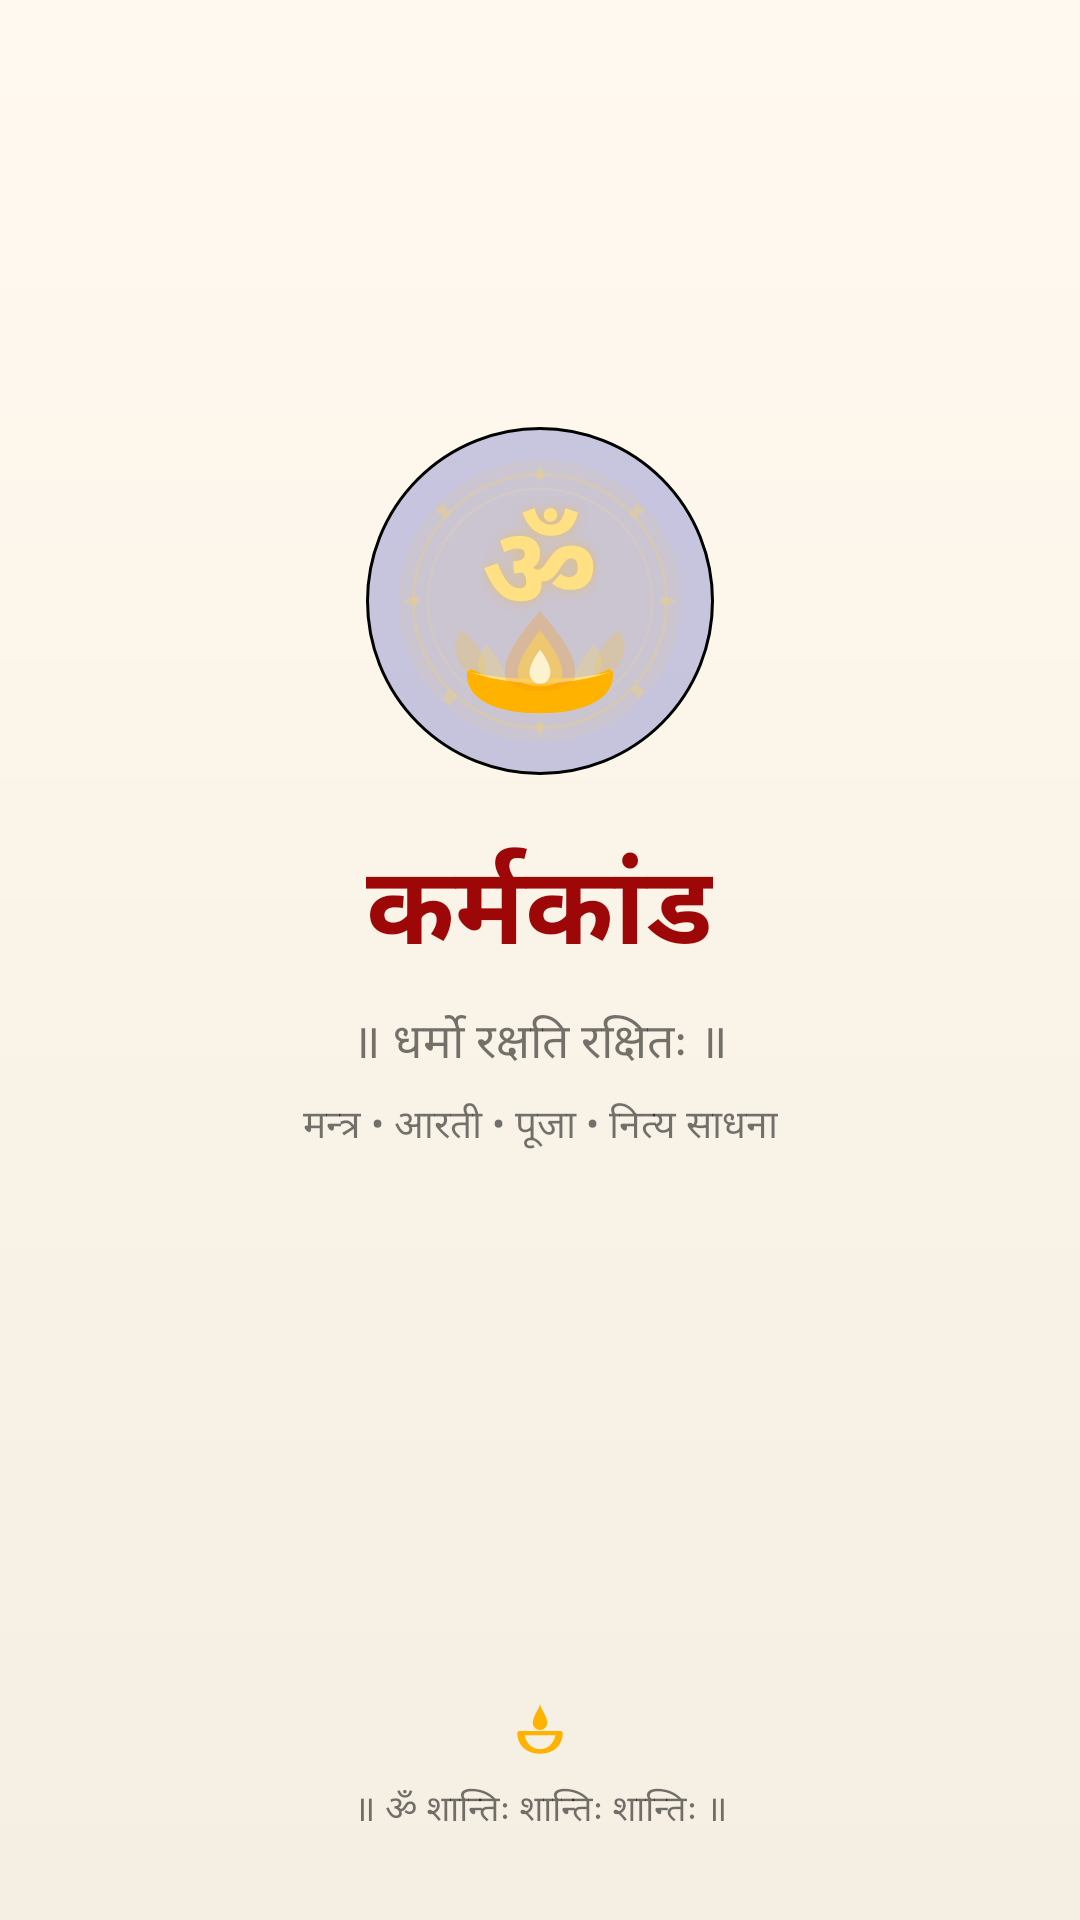

Point at icon controls on the screen. Image size 1080x1920, points as [x,y].
diya: [540,1729]
sacred mandala diya: [540,601]
